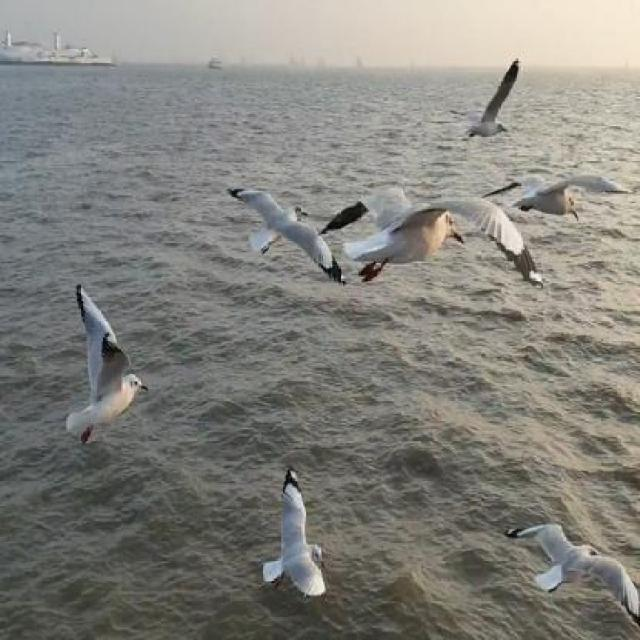bird: (328, 176, 548, 342), (497, 514, 640, 637), (56, 271, 149, 449), (218, 180, 344, 294), (251, 459, 332, 608), (493, 162, 632, 238), (441, 58, 525, 145)
